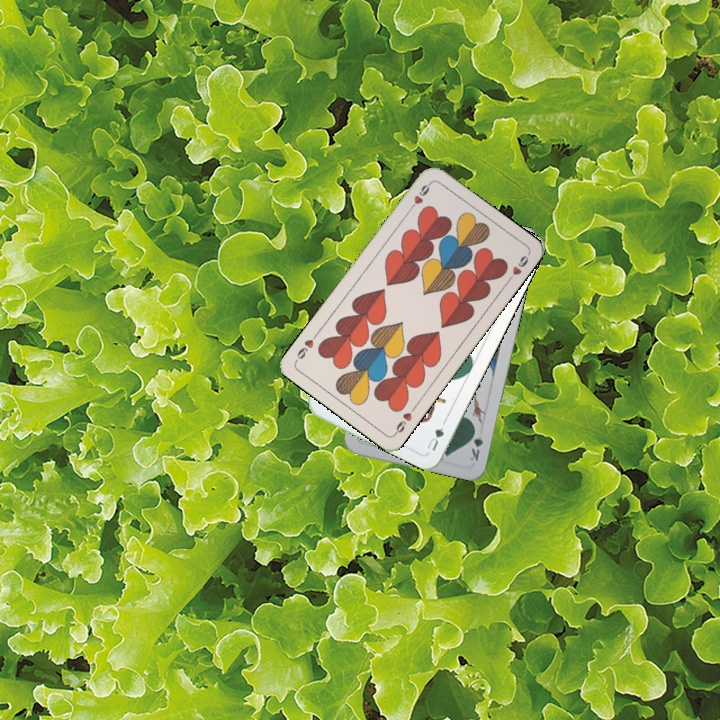GK: (466, 424, 486, 464)
GU: (422, 423, 447, 453)
H9: (390, 402, 419, 438), (405, 179, 434, 213)
